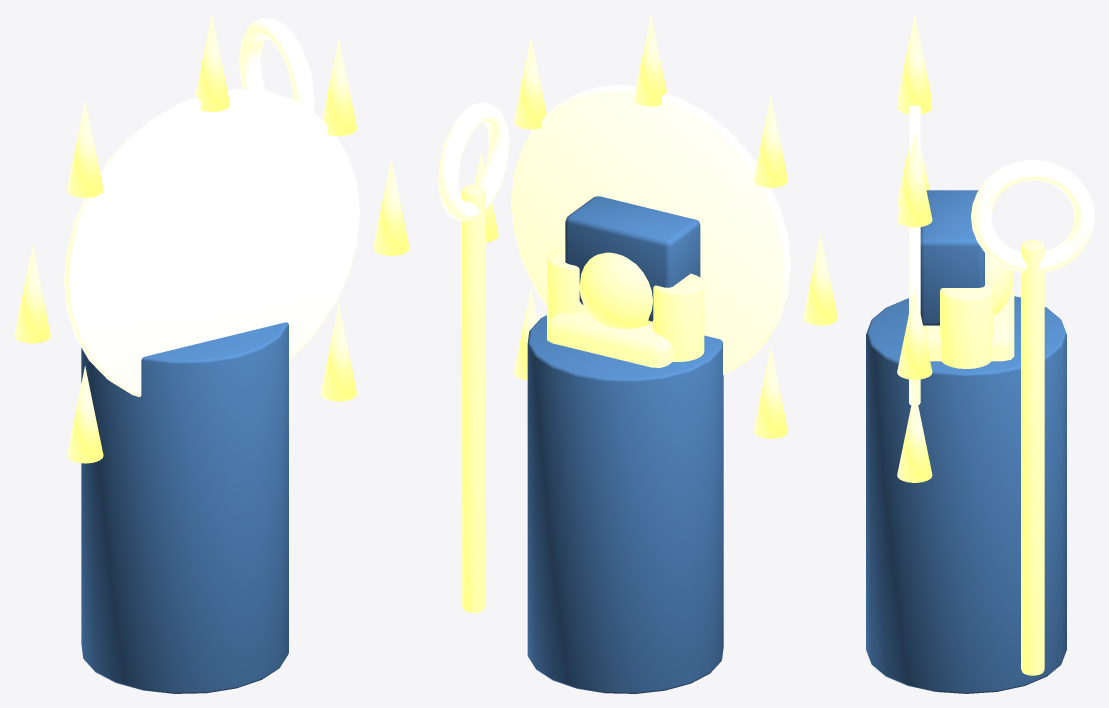
Rendered from boss_akhen_ra.glb.
The picture shows the model from 3 angles, left to right: view 1: azimuth 30°, elevation 25°; view 2: azimuth 150°, elevation 25°; view 3: azimuth 270°, elevation 25°; orthographic projection. The views are drawn at different scales.
Parts seen in each view (by area): view 1: Anim_Rotor, StaticBody, Anim_Weapon; view 2: StaticBody, Anim_Rotor, Anim_Weapon; view 3: StaticBody, Anim_Weapon, Anim_Rotor.
Boxes of the visible parts, left/top/right/bottom form: Anim_Rotor: left=14, top=15, right=409, bottom=463; StaticBody: left=81, top=322, right=288, bottom=693; Anim_Weapon: left=239, top=18, right=314, bottom=111; StaticBody: left=527, top=196, right=723, bottom=693; Anim_Rotor: left=474, top=15, right=837, bottom=438; Anim_Weapon: left=438, top=102, right=509, bottom=612; StaticBody: left=866, top=190, right=1066, bottom=693; Anim_Weapon: left=971, top=160, right=1094, bottom=675; Anim_Rotor: left=897, top=14, right=932, bottom=482.
Bounding box in the file's own units: 2.94 × 4.73 × 1.55.
